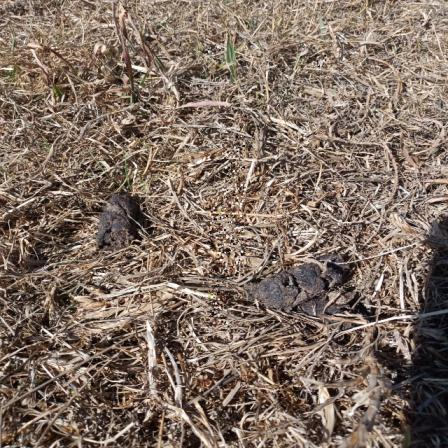dog-poop: (243, 249, 360, 320), (88, 190, 139, 245)
